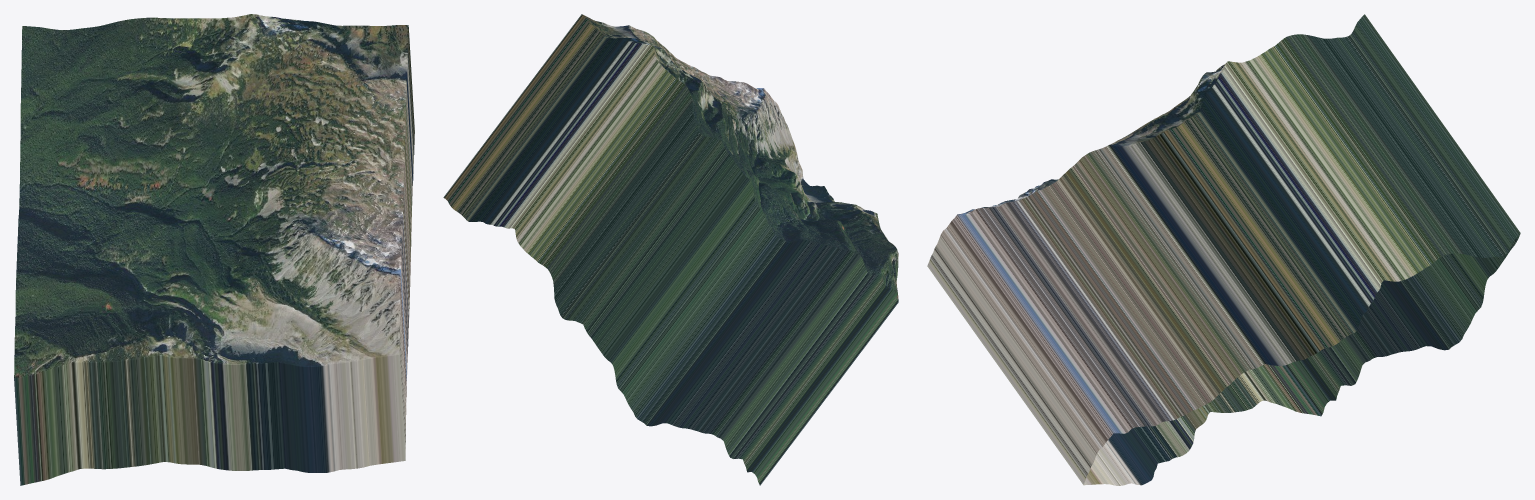
The picture shows the model from 3 angles, left to right: view 1: azimuth 30°, elevation 25°; view 2: azimuth 150°, elevation 25°; view 3: azimuth 270°, elevation 25°; orthographic projection. The views are drawn at different scales.
Size of the model in its own units: 5870 by 5400 by 6617.
1 material, 1 textured.
